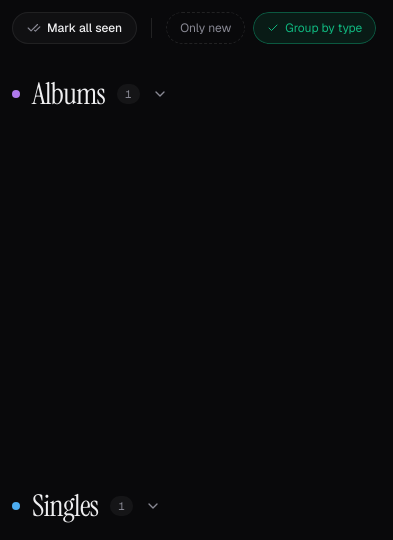
Test case: LatestReleases › groups by type and collapses a group
Click the button "Albums 1". click: point(90, 94)
box: [12,76,168,112]
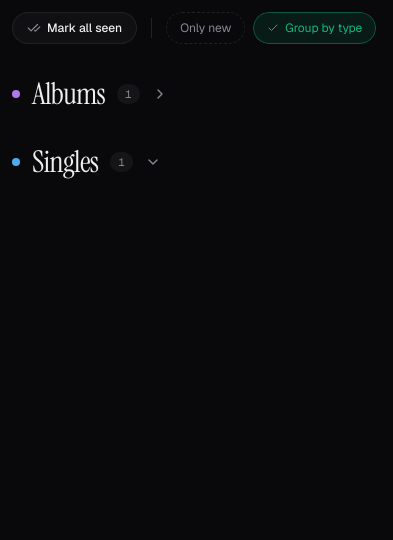
Now the button "Albums 1" is collapsed, box [12,76,168,112]
